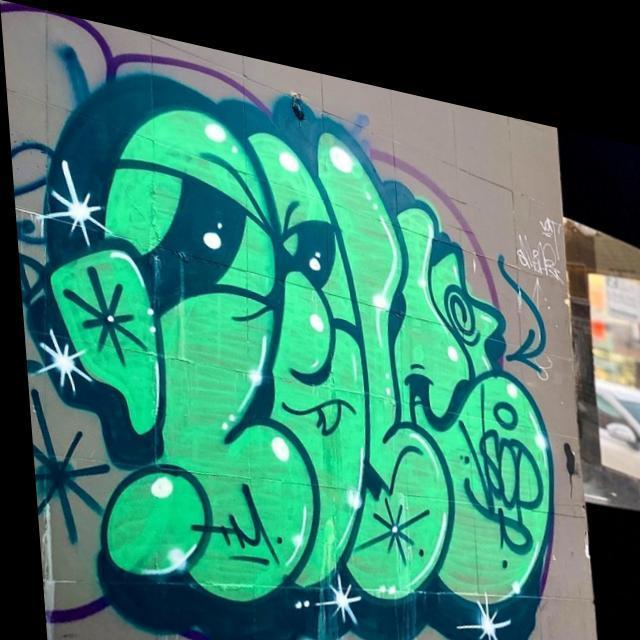-: (6, 16, 596, 640)
